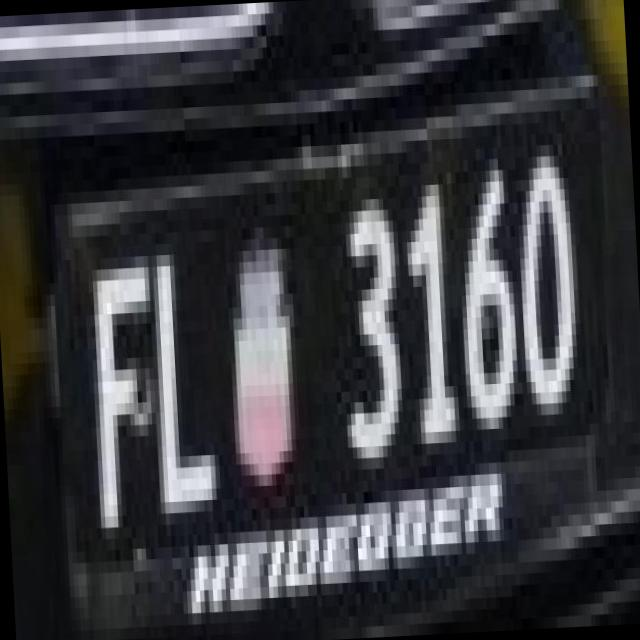0: (330, 414, 560, 639), (500, 122, 584, 406)
1: (384, 139, 464, 434)
3: (316, 164, 409, 460)
6: (210, 192, 306, 477), (444, 136, 524, 420)
F: (68, 222, 162, 518)
L: (132, 219, 222, 503)
